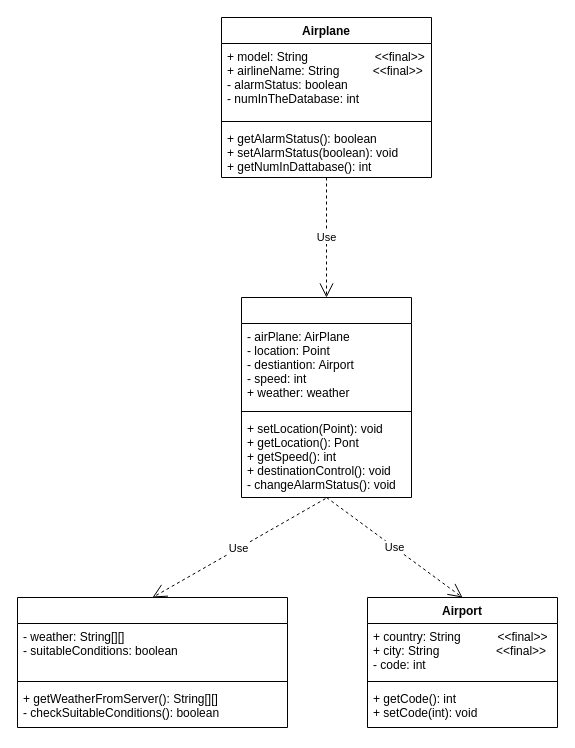
This 575x748 diagram has some shape labels left out. The box of each missing label's shape, as (x1, y1, x2, y2) in pixels:
CheckWeather: (16, 596, 288, 728)
FlightCondition: (240, 296, 412, 498)
